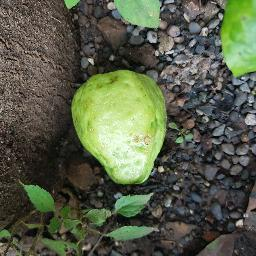Good_guava: (72, 64, 165, 193)
